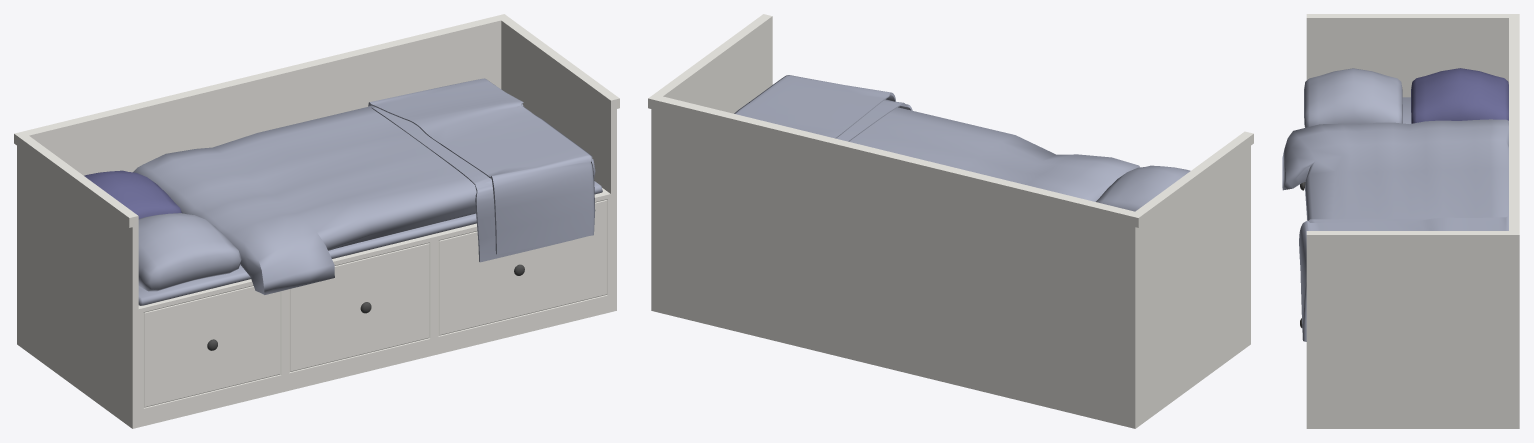
The model's file is Hemnes (1).fbx.
3 views of the same model, side by side, from view 1: azimuth 30°, elevation 25°; view 2: azimuth 150°, elevation 25°; view 3: azimuth 270°, elevation 25° (orthographic). The views are drawn at different scales.
Visible parts, largest first — view 1: IKE050020; view 2: IKE050020; view 3: IKE050020.
Part boxes in pixels (<box>): IKE050020: <box>14,14,619,428</box>; IKE050020: <box>648,14,1253,428</box>; IKE050020: <box>1282,14,1519,428</box>.
Size of the model in its own units: 21100 by 8700 by 9587.
